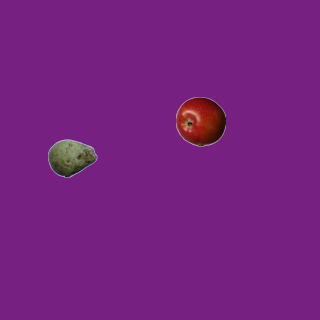Apple Braeburn: (175, 96, 225, 146)
Pear Stone: (47, 133, 97, 183)
